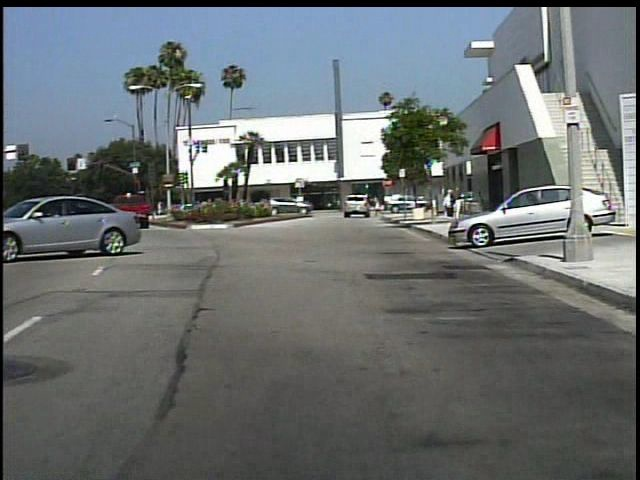person: (451, 187, 465, 224), (472, 188, 488, 220), (373, 192, 387, 220), (443, 189, 454, 221)
